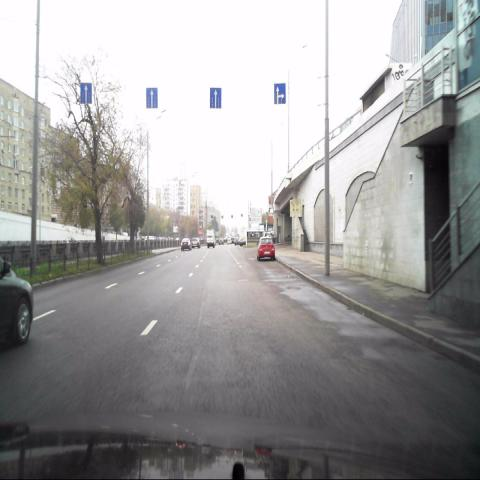5_15_2: (274, 82, 286, 104)
